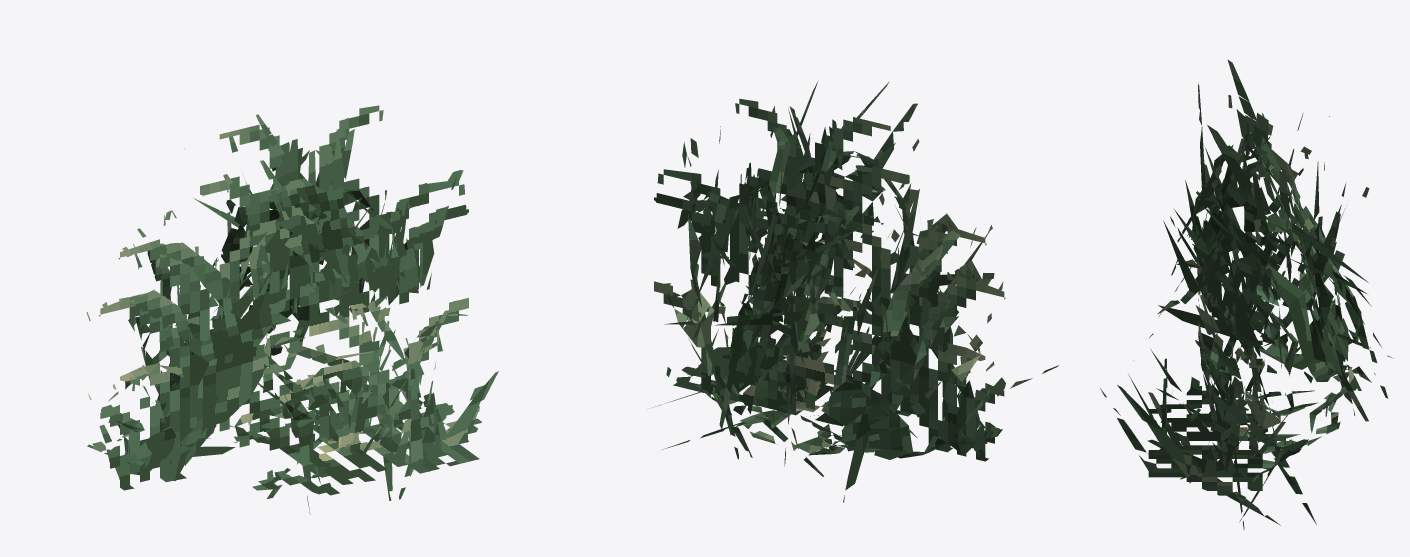
The model's file is grass_1290_cut_far.glb.
3 views of the same model, side by side, from view 1: azimuth 30°, elevation 25°; view 2: azimuth 150°, elevation 25°; view 3: azimuth 270°, elevation 25° (orthographic). The views are drawn at different scales.
Parts seen in each view (by area): view 1: grass_1290_cut_lod1; view 2: grass_1290_cut_lod1; view 3: grass_1290_cut_lod1.
Boxes of the visible parts, bbox=[...] form: grass_1290_cut_lod1: bbox=[86, 105, 498, 514]; grass_1290_cut_lod1: bbox=[653, 81, 1058, 502]; grass_1290_cut_lod1: bbox=[1100, 60, 1393, 529].
Bounding box in the file's own units: 1.05 × 1.01 × 0.572.
Materials: 1 (1 with a texture image).
